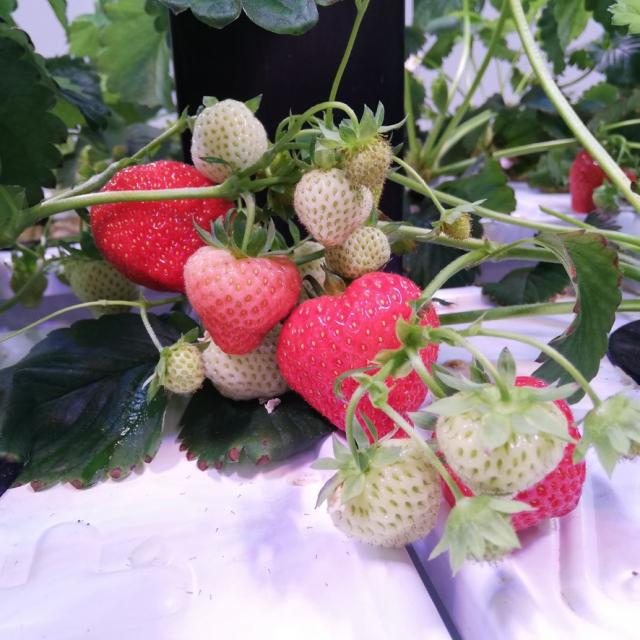Healthy Fruit: (277, 272, 422, 430), (90, 199, 233, 293), (184, 246, 301, 354), (329, 439, 443, 549), (437, 412, 567, 496), (203, 324, 288, 401), (191, 98, 268, 182), (294, 168, 374, 246), (101, 160, 213, 191), (326, 227, 392, 279), (66, 261, 139, 302), (161, 342, 204, 395), (387, 373, 428, 417), (358, 397, 395, 437), (91, 306, 129, 317)
